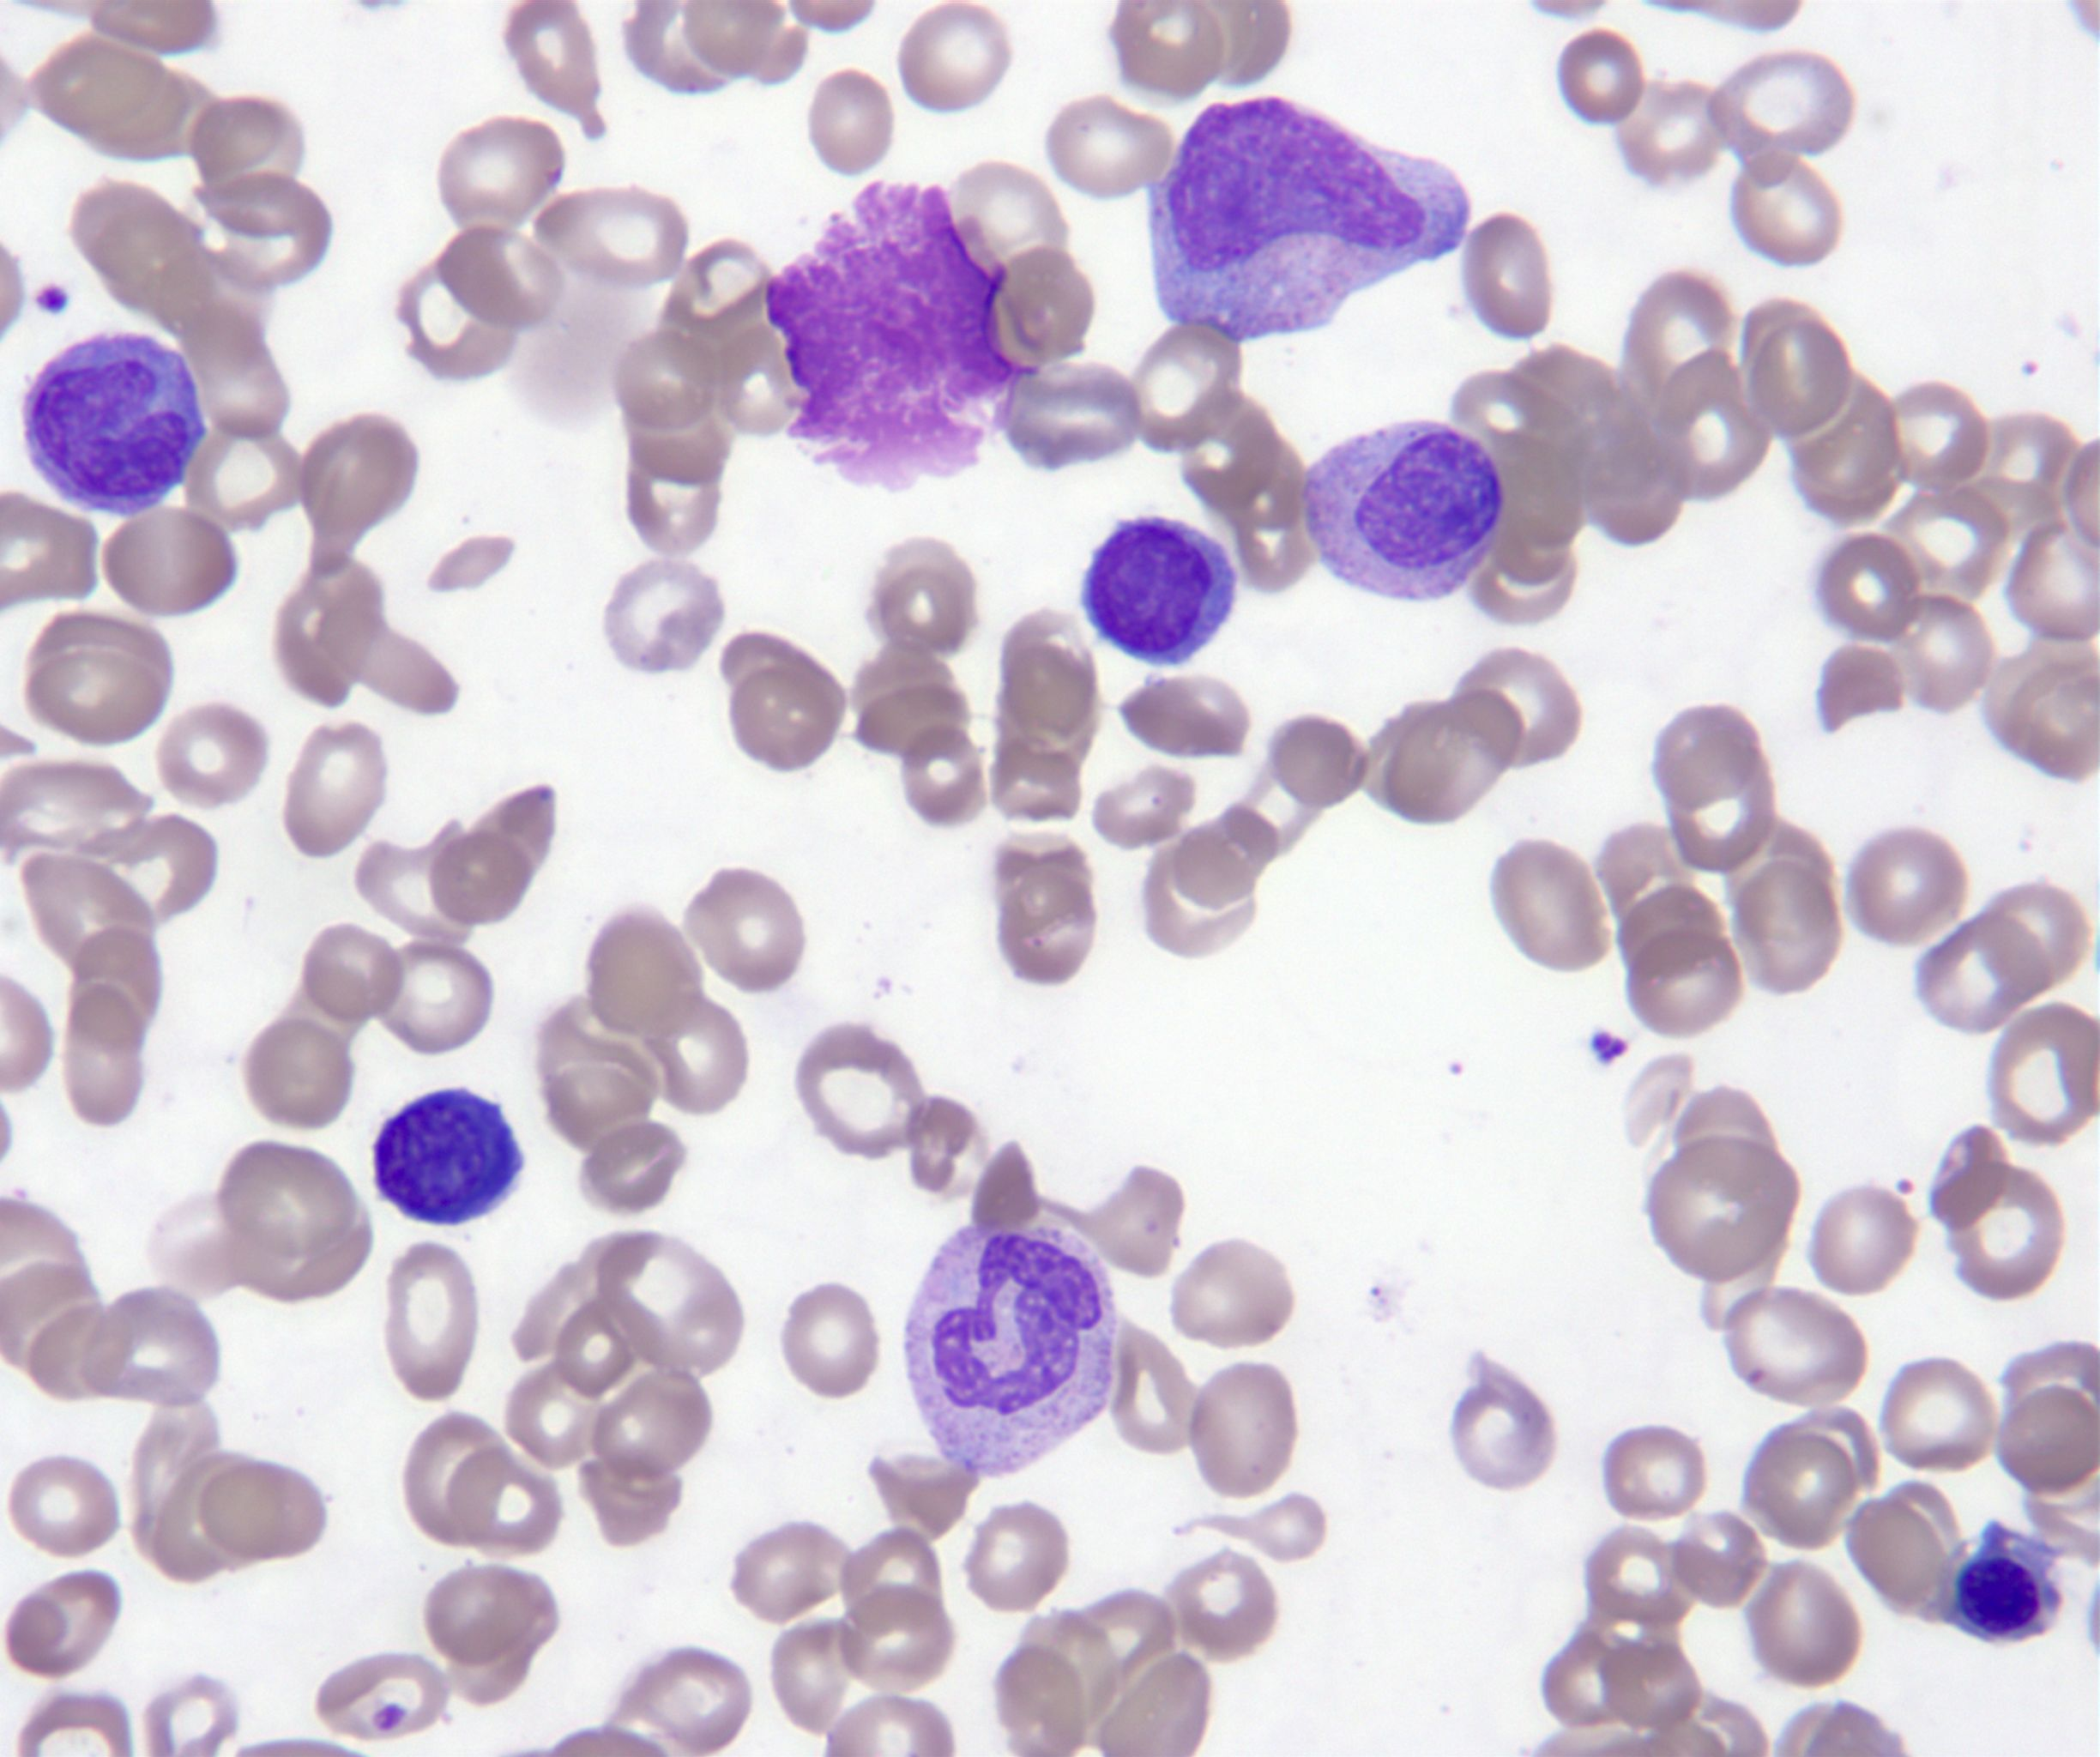23: (373, 1085, 525, 1225)
24: (1936, 1525, 2063, 1645)
3: (1149, 96, 1469, 342), (1301, 422, 1502, 598)
32: (1081, 516, 1233, 670)
42: (24, 337, 204, 516)
5: (905, 1225, 1118, 1474)
x: (766, 178, 1038, 490)
